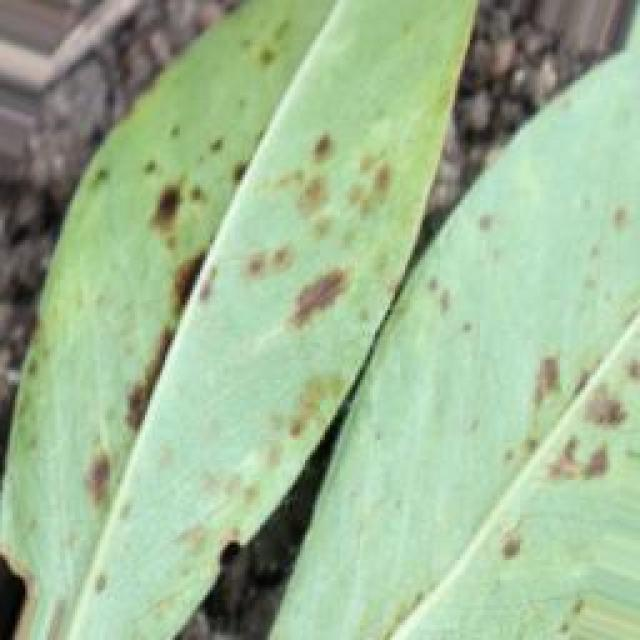Whitefly: (55, 0, 640, 611)
